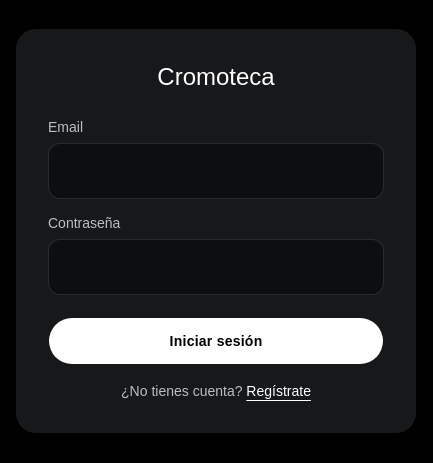
LoginScreen — R-AUTH-01 policy gate › blocks a policy-violating password BEFORE any HTTP request (no digit → field errors only)
This screenshot has width=433, height=463.
Type "user@example.com" into the field labelled "Email".
click(216, 171); type("user@example.com")  # box [48, 143, 384, 199]
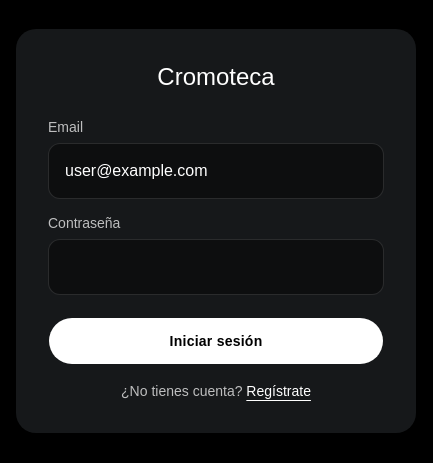
Type "Abcdefgh!" into the password field labelled "Contraseña".
click(216, 267); type("Abcdefgh!")  # box [48, 239, 384, 295]
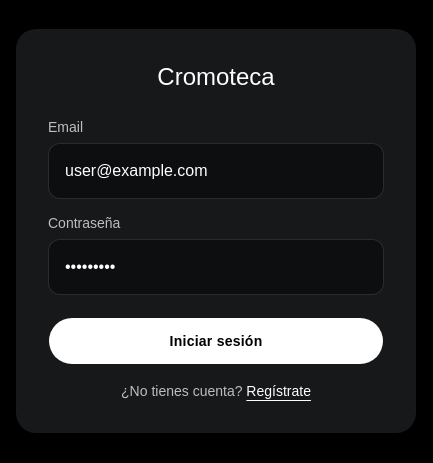
Click the button "Iniciar sesión".
click(216, 341)  # box [48, 317, 384, 365]
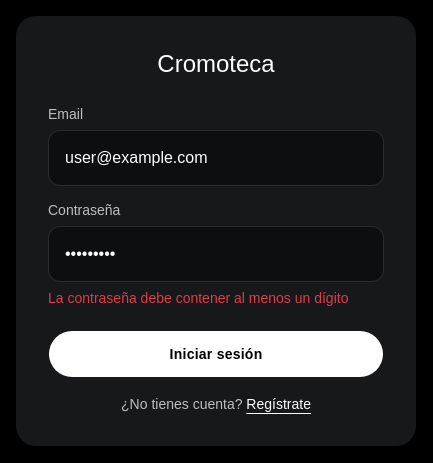
Check: the message shows "dígito", box [48, 290, 348, 306]
